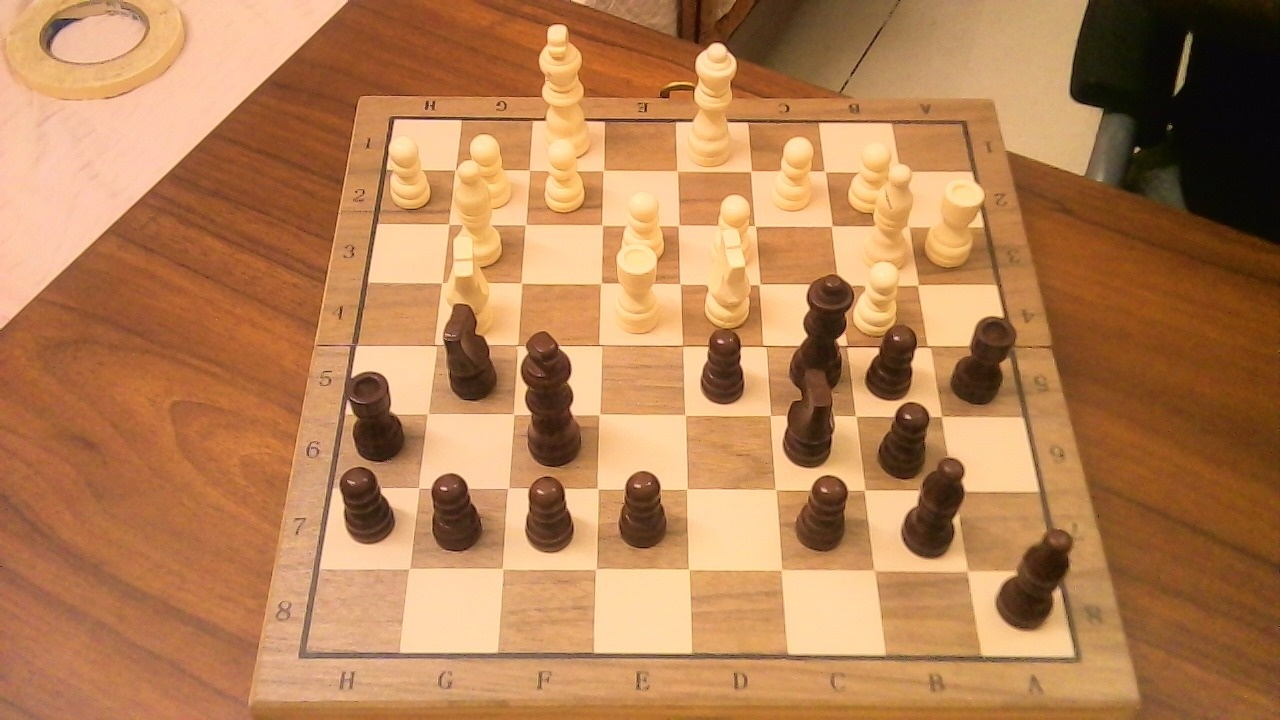B: (855, 154, 923, 275), (448, 149, 513, 271)
K: (534, 13, 598, 162)
N: (692, 238, 759, 328), (455, 231, 498, 313)
P: (840, 138, 917, 219), (610, 181, 671, 280), (764, 127, 823, 216), (459, 126, 518, 214), (535, 129, 591, 217), (382, 129, 437, 211), (857, 252, 907, 340), (705, 187, 758, 267)
Q: (682, 30, 745, 169)
R: (920, 169, 992, 272), (606, 232, 669, 340)
b: (992, 514, 1085, 634), (920, 444, 979, 564)
k: (517, 321, 594, 469)
n: (435, 288, 508, 404), (777, 383, 853, 470)
p: (330, 456, 406, 548), (789, 463, 860, 555), (860, 313, 928, 402), (880, 400, 942, 480), (618, 470, 668, 550), (432, 473, 482, 552), (522, 477, 576, 550), (700, 330, 745, 405)
q: (780, 260, 863, 393)
r: (945, 302, 1025, 408), (342, 359, 415, 464)
